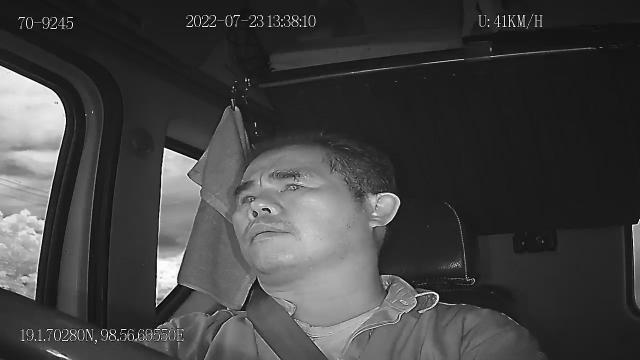SafeDriving: (272, 169, 320, 197)
Seatbelt: (246, 288, 330, 360)
